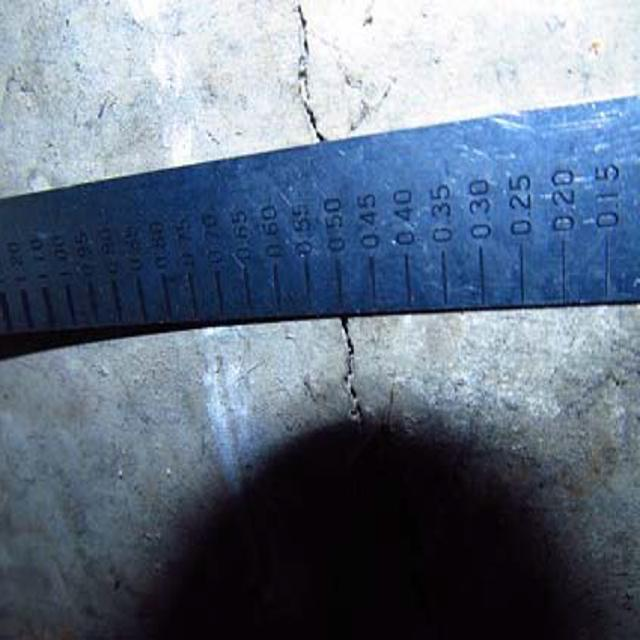crack: (284, 8, 343, 143), (324, 313, 374, 436)
